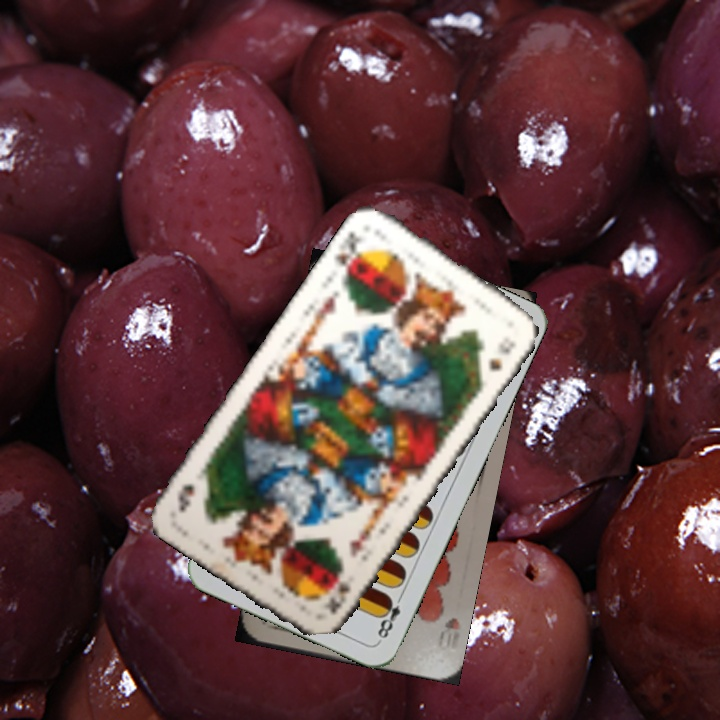E8: (373, 589, 406, 644)
H10: (435, 613, 463, 654)
SK: (329, 226, 364, 280), (320, 565, 355, 616)
